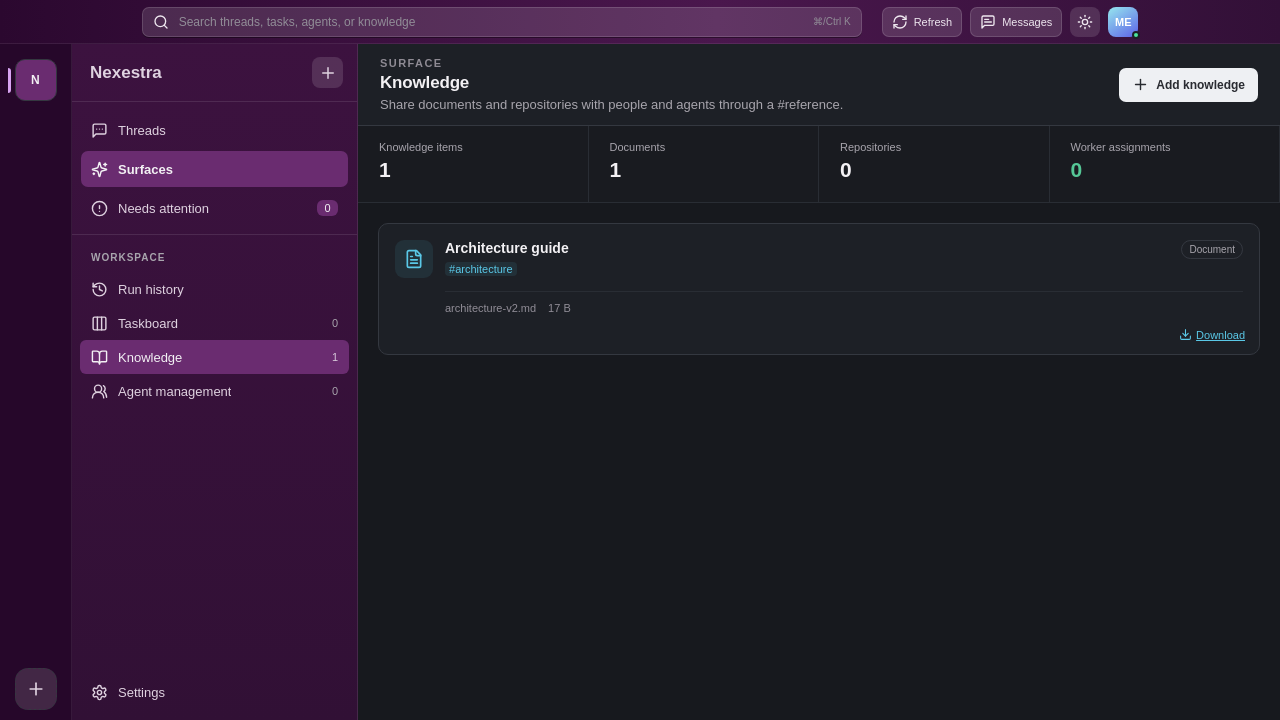
Test: Knowledge document revisions › previews current and prior versions from the detail dialog
Expected: the heading "Knowledge" is shown, [380,73,469,92]
Click the button with aria-label "View details for Architecture guide".
click(819, 289)  # box [379,224,1259,354]
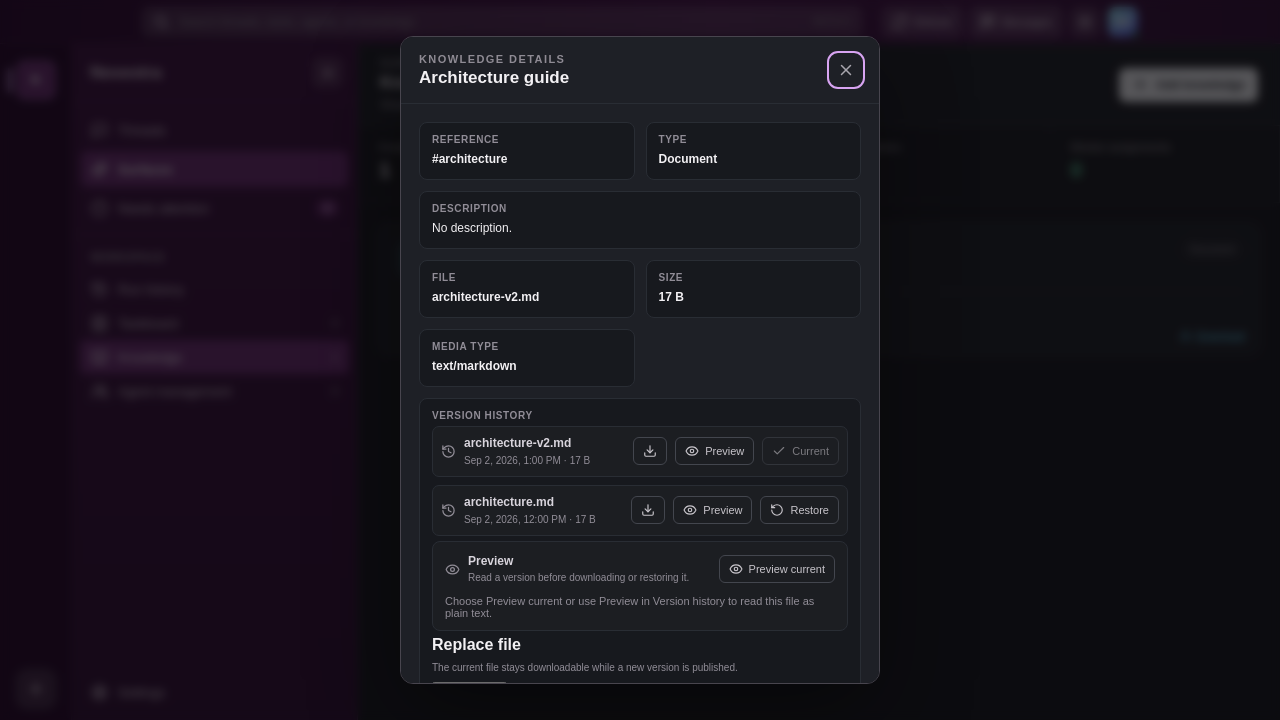
Now the text "Version history" is shown, box [432,410,533,421]
Click the button with aria-label "Preview architecture.md".
click(713, 510)  # box [673,496,752,524]
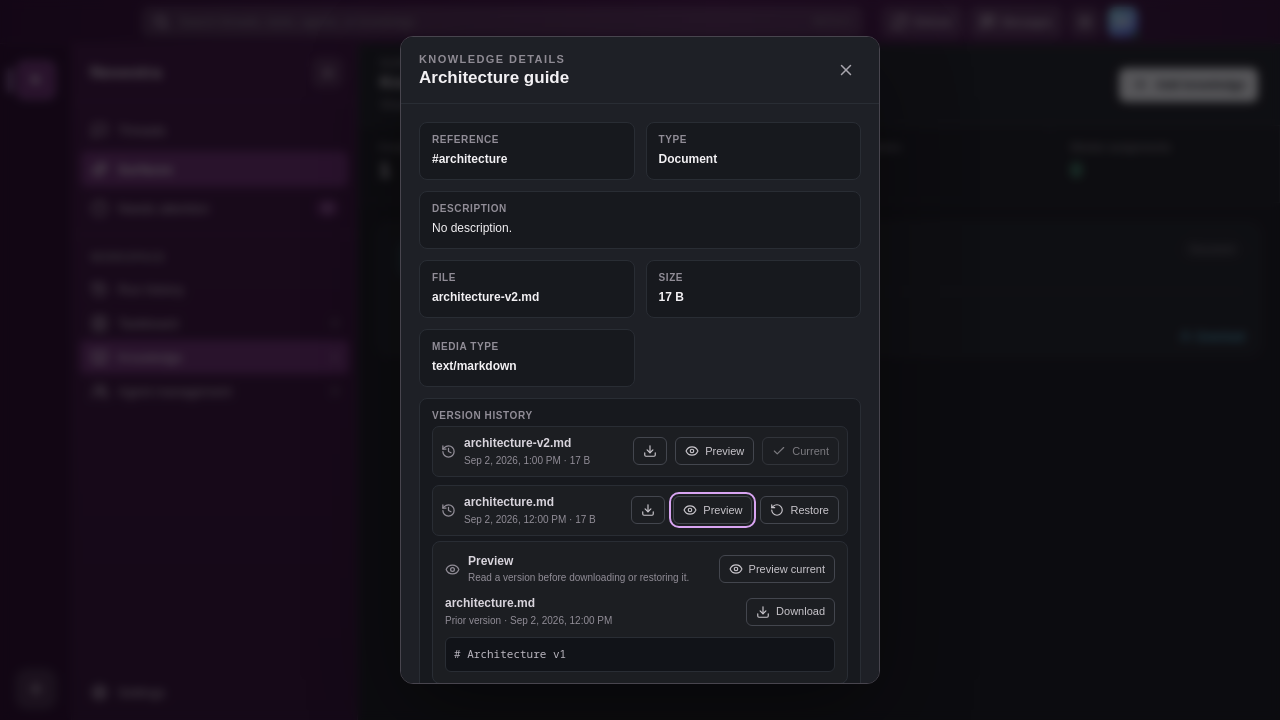
Now the text "# Architecture v1" is shown, box [454,646,566,661]
Now the text "Prior version · Sep 2, 2026, 12:00 PM" is shown, box [445,615,612,626]
Click the button "Preview current".
click(777, 569)  # box [719,555,835,583]
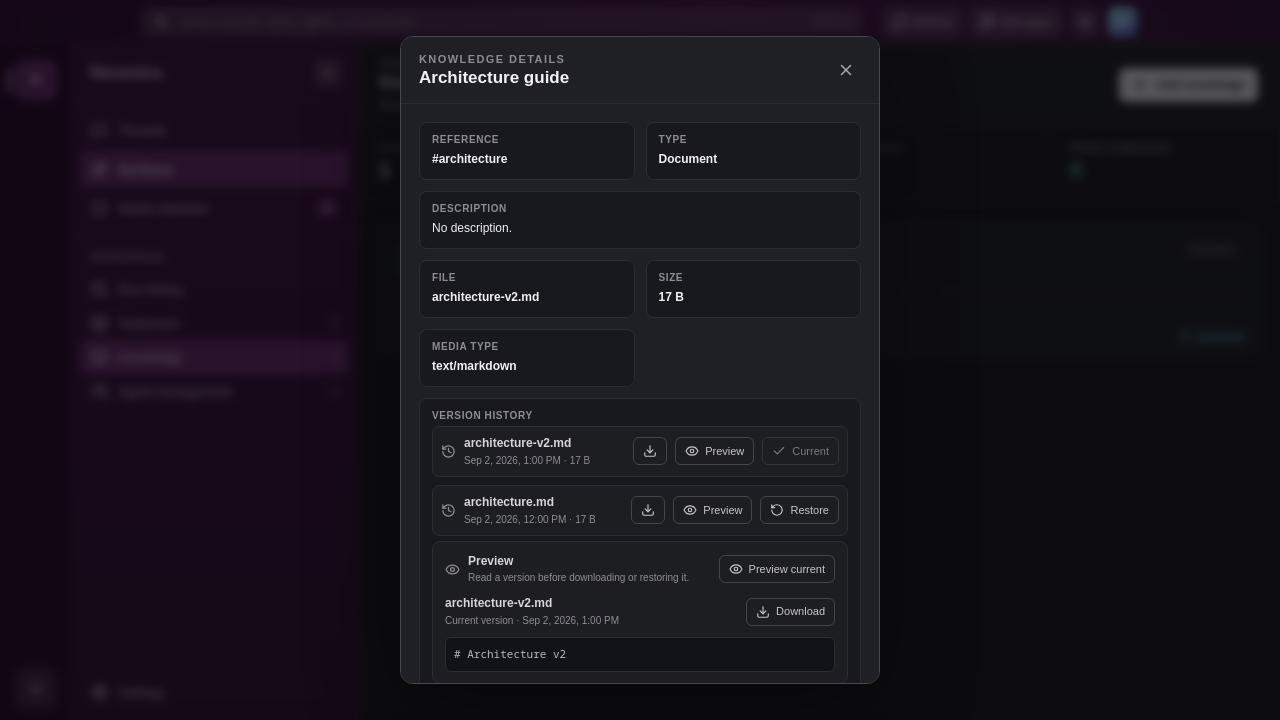
Now the text "# Architecture v2" is shown, box [454,646,566,661]
Now the text "Current version · Sep 2, 2026, 1:00 PM" is shown, box [445,615,619,626]
